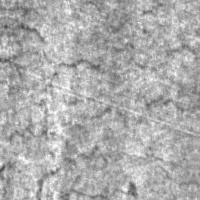crazing: (5, 116, 180, 199), (1, 14, 151, 106), (38, 54, 200, 128)
